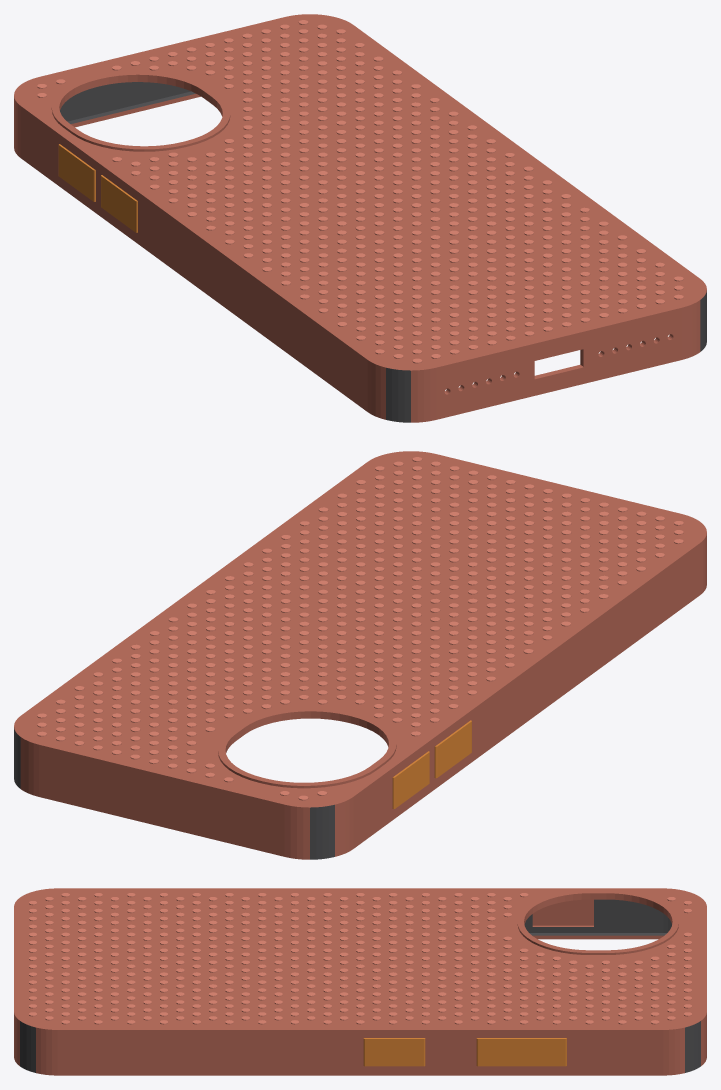
Rendered from kilif-rugged-nokta-mercan.glb.
3 renders of one model, top to bottom at view 1: azimuth 30°, elevation 25°; view 2: azimuth 150°, elevation 25°; view 3: azimuth 270°, elevation 25°, orthographic. The views are drawn at different scales.
Parts seen in each view (by area): view 1: Kilif; view 2: Kilif; view 3: Kilif.
Part boxes in pixels (box(x1,y1,x2,y2)): Kilif: box(14, 14, 706, 422); Kilif: box(14, 451, 706, 859); Kilif: box(14, 888, 706, 1075).
Bounding box in the file's own units: 0.0828 × 0.0129 × 0.1694.
